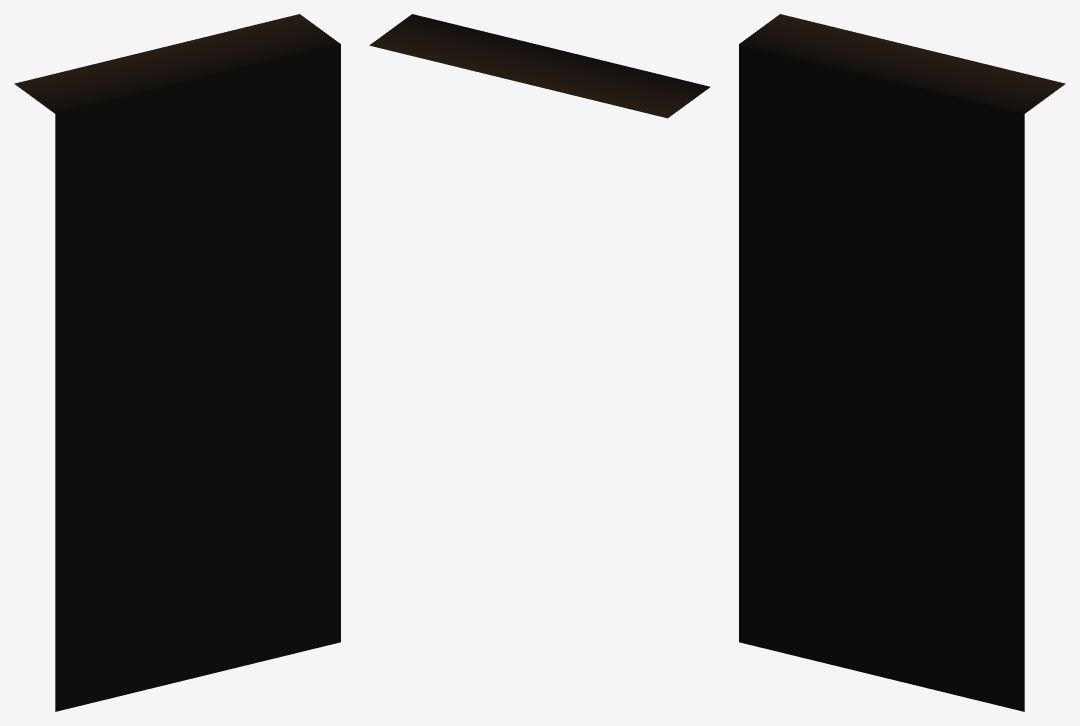
The picture shows the model from 3 angles, left to right: view 1: azimuth 30°, elevation 25°; view 2: azimuth 150°, elevation 25°; view 3: azimuth 330°, elevation 25°; orthographic projection. The views are drawn at different scales.
Bounding box in the file's own units: 1 × 2 × 0.25.
1 material, 1 textured.
